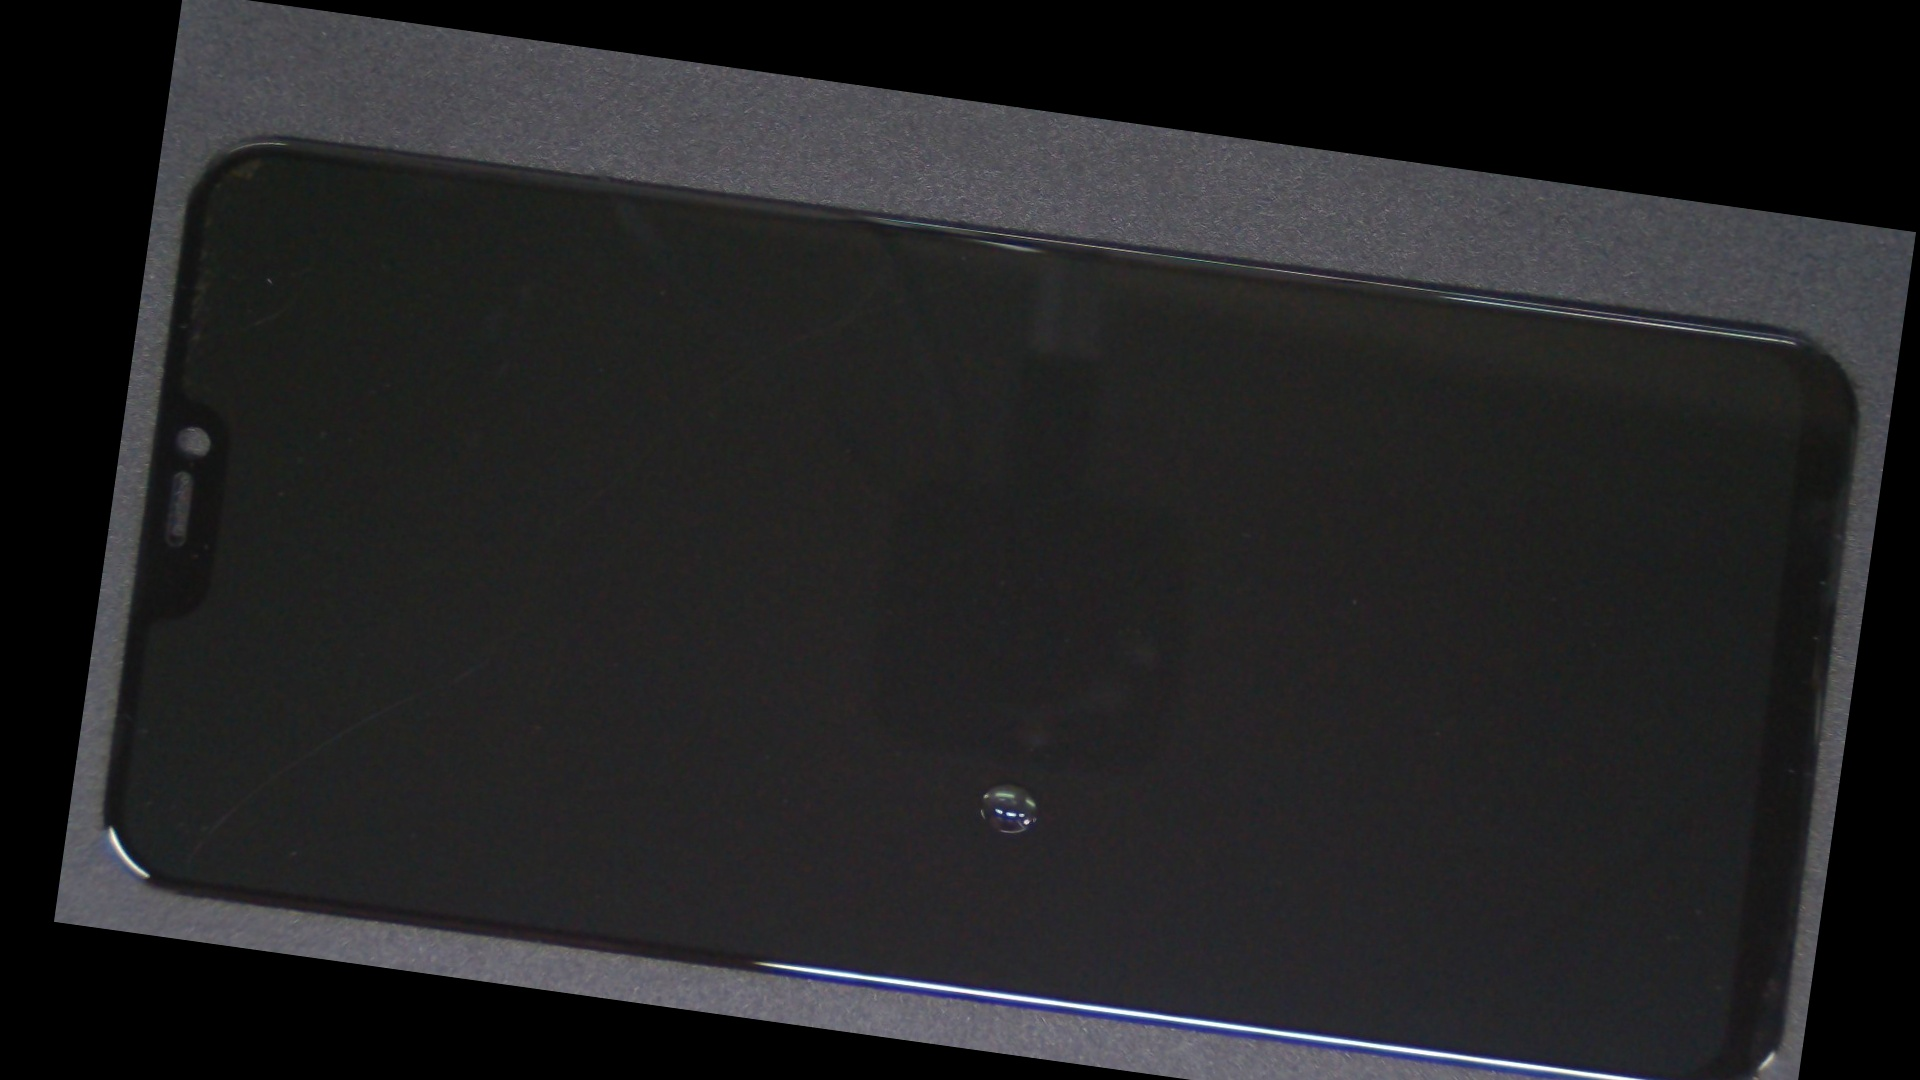oil: (512, 388, 1510, 1080)
